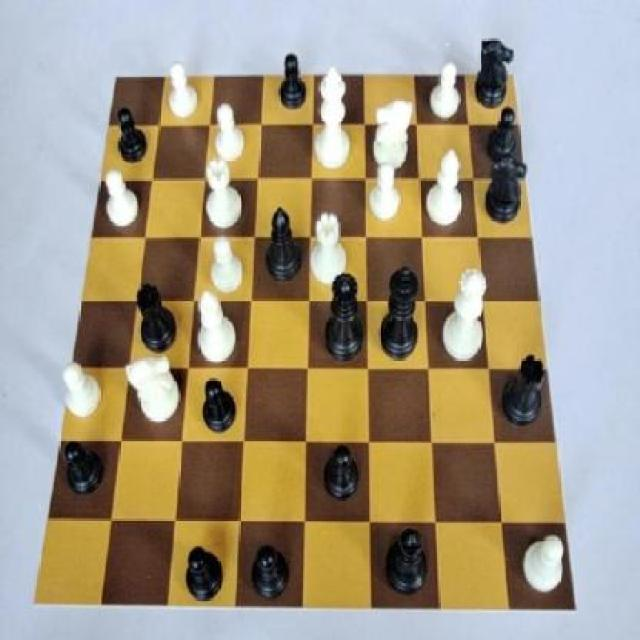bishop: (378, 515, 434, 598), (260, 200, 306, 295)
black-bishop: (377, 256, 431, 370)
black-king: (478, 145, 534, 229), (471, 28, 518, 112)
black-knight: (311, 431, 369, 507), (241, 536, 297, 608), (177, 534, 226, 612), (58, 434, 108, 503), (195, 371, 243, 440), (482, 105, 530, 172), (112, 98, 156, 168), (274, 46, 311, 116)
black-pawn: (323, 263, 369, 366)
black-queen: (128, 271, 188, 357), (498, 343, 551, 439)
black-rook: (192, 287, 250, 368), (422, 143, 471, 238)
white-bishop: (312, 59, 357, 174)
white-king: (120, 349, 188, 438), (369, 94, 420, 180)
white-knight: (514, 522, 571, 599), (55, 348, 108, 427), (94, 165, 147, 237), (425, 54, 470, 124), (163, 56, 207, 126), (204, 234, 253, 296), (210, 97, 254, 166), (364, 157, 406, 227)
white-pawn: (434, 260, 495, 369)
white-queen: (308, 208, 355, 292), (198, 157, 250, 232)
